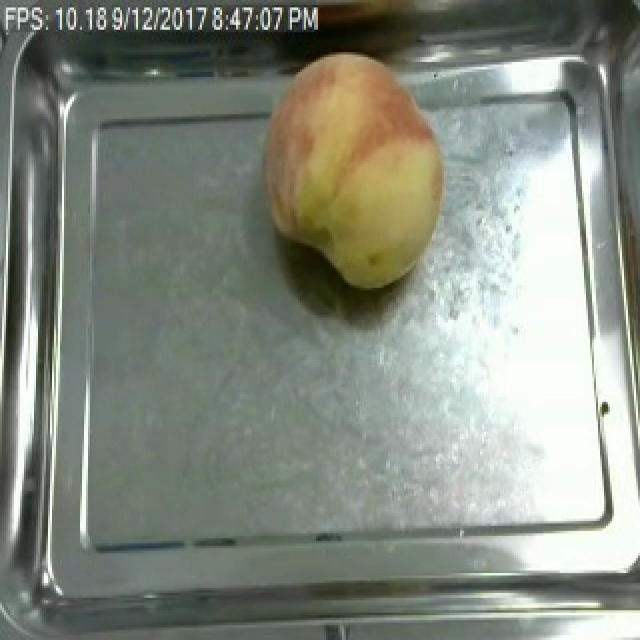Fruit: (252, 42, 456, 298)
